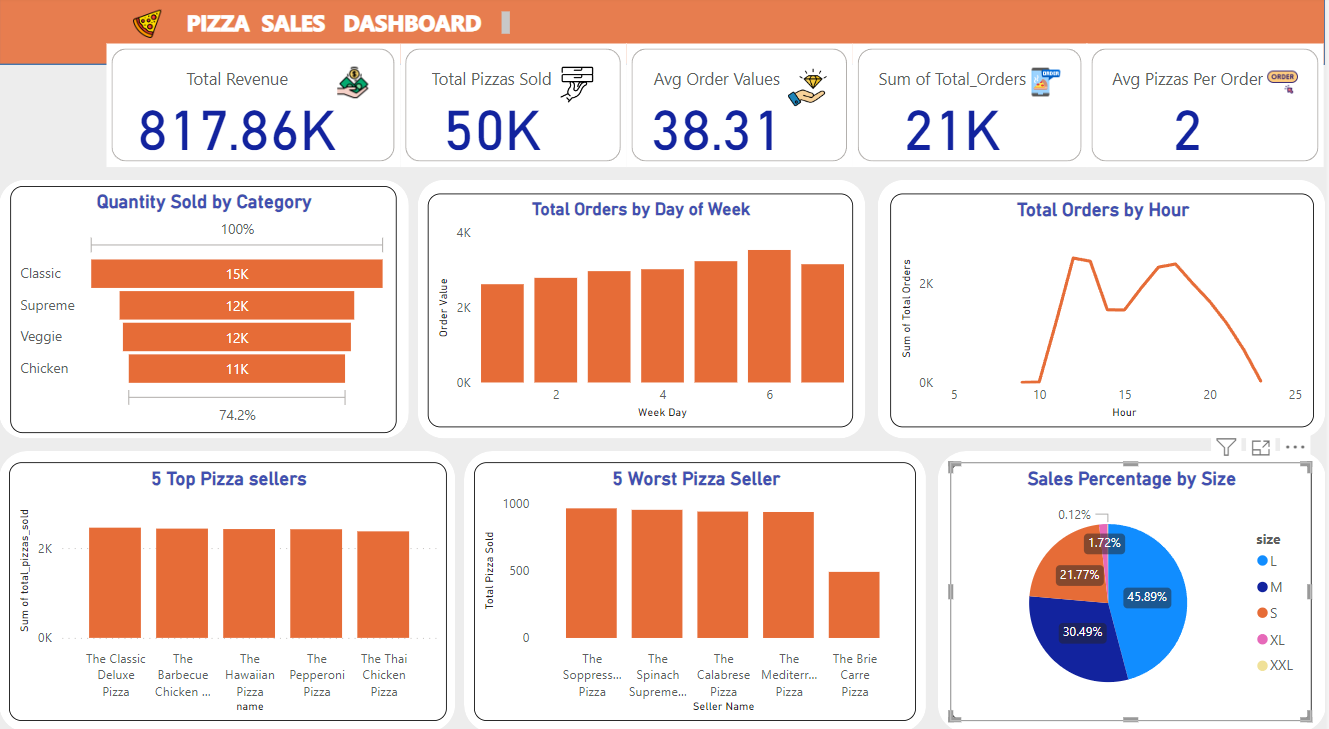

This screenshot's page, from the dashboard's own definition file:
{"tool":"powerbi","page":{"name":"Page 1","canvas":[1280,720],"ordinal":0},"visuals":[{"type":"shape","box":[0,0,1279.6,66.3],"z":0},{"type":"cardVisual","title":"Total Revenue","fields":{"Data":["Sum(kpi1.Total_Revenue)"]},"box":[103.7,45.8,283.4,119.4],"z":1000},{"type":"cardVisual","fields":{"Data":["Sum(kpi2.Avg_Order_Values)"]},"box":[605.4,45.8,218.3,119.4],"z":2000},{"type":"cardVisual","fields":{"Data":["Sum(kpi3.Total_Pizzas_Sold)"]},"box":[387.1,45.8,218.3,119.4],"z":3000},{"type":"cardVisual","fields":{"Data":["Sum(kpi4.Total_Orders)"]},"box":[823.7,45.8,226.7,119.4],"z":4000},{"type":"cardVisual","fields":{"Data":["Sum(Avg Pizza per Order.Average_Pizzas_Per_Order)"]},"box":[1049.7,45.3,229.2,119.4],"z":5000},{"type":"image","box":[113.4,8.4,59.1,37.4],"z":6000},{"type":"textbox","box":[176.1,8.4,322,35],"z":7000},{"type":"shape","box":[847.8,177.3,431.8,249.6],"z":8000},{"type":"shape","box":[404,177.3,431.8,249.6],"z":9000},{"type":"shape","box":[905.7,439.1,374.6,271.7],"z":10000},{"type":"shape","box":[448.7,439.1,446,271.7],"z":11000},{"type":"shape","box":[0,177.3,395.6,249.6],"z":12000},{"type":"columnChart","title":"Total Orders by Day of Week","fields":{"Category":["days of week.Day_of_Week"],"Y":["Sum(days of week.total_orders)"]},"box":[413.7,190.6,410.1,225.5],"z":13000},{"type":"lineChart","title":"Total Orders by Hour","fields":{"Category":["hourlytrend.Hour"],"Y":["Sum(hourlytrend.total_orders)"]},"box":[859.9,190.6,408.8,225.5],"z":14000},{"type":"pieChart","title":"Sales Percentage  by Size","fields":{"Category":["percentage_sales.size"],"Y":["Sum(percentage_sales.percentage_sales)"]},"box":[918,450.1,348.5,249.7],"z":15000},{"type":"columnChart","title":"5 Worst Pizza Seller ","fields":{"Y":["Sum(worst _total_pizza_sellers.total_pizzas_sold)"],"Category":["worst _total_pizza_sellers.name"]},"box":[458.3,450.1,426.8,249.7],"z":16000},{"type":"funnel","title":"Quantity Sold by Category","fields":{"Category":["category_quantitySold.category"],"Y":["Sum(category_quantitySold.quantity_sold)"]},"box":[10.9,183.3,372.7,238.8],"z":17000},{"type":"shape","box":[0,439,440.2,271.4],"z":18000},{"type":"columnChart","title":"5 Top Pizza sellers","fields":{"Category":["top _total_pizza_sellers.name"],"Y":["Sum(top _total_pizza_sellers.total_pizzas_sold)"]},"box":[9.6,449.8,422.1,249.6],"z":19000}]}

Visuals, with their boxes in screenshot pixels (x1, y1, x2, y2), scaled from the page's 1280x720 canvas onto the 1329x729 screenshot:
shape: select_region(0, 0, 1328, 67)
"Total Revenue" cardVisual: select_region(108, 46, 402, 167)
cardVisual - Sum(kpi2.Avg_Order_Values): select_region(629, 46, 855, 167)
cardVisual - Sum(kpi3.Total_Pizzas_Sold): select_region(402, 46, 629, 167)
cardVisual - Sum(kpi4.Total_Orders): select_region(855, 46, 1091, 167)
cardVisual - Sum(Avg Pizza per Order.Average_Pizzas_Per_Order): select_region(1090, 46, 1328, 167)
image: select_region(118, 9, 179, 46)
textbox: select_region(183, 9, 517, 44)
shape: select_region(880, 180, 1328, 432)
shape: select_region(419, 180, 868, 432)
shape: select_region(940, 445, 1328, 720)
shape: select_region(466, 445, 929, 720)
shape: select_region(0, 180, 411, 432)
"Total Orders by Day of Week" columnChart: select_region(430, 193, 855, 421)
"Total Orders by Hour" lineChart: select_region(893, 193, 1317, 421)
"Sales Percentage  by Size" pieChart: select_region(953, 456, 1315, 709)
"5 Worst Pizza Seller " columnChart: select_region(476, 456, 919, 709)
"Quantity Sold by Category" funnel: select_region(11, 186, 398, 427)
shape: select_region(0, 444, 457, 719)
"5 Top Pizza sellers" columnChart: select_region(10, 455, 448, 708)
